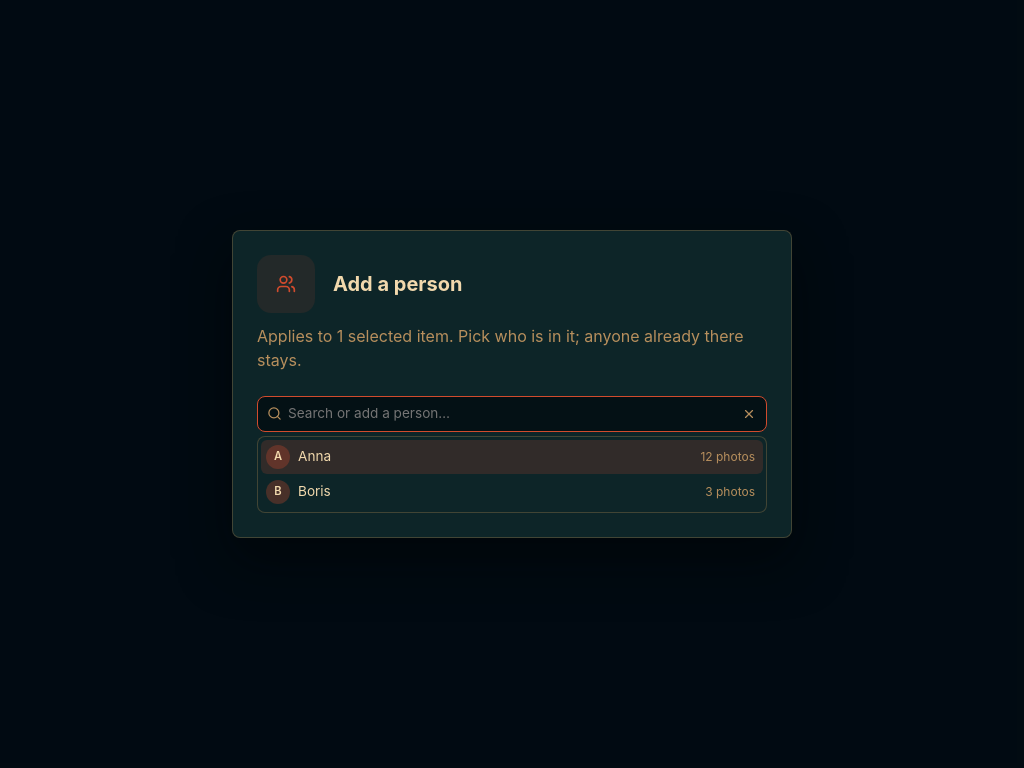
Scenario: GalleryPeopleModal › shows the failure and stays open
Click the option "B Boris 3 photos". click: x=314, y=491
box: x1=261 y1=474 x2=763 y2=508
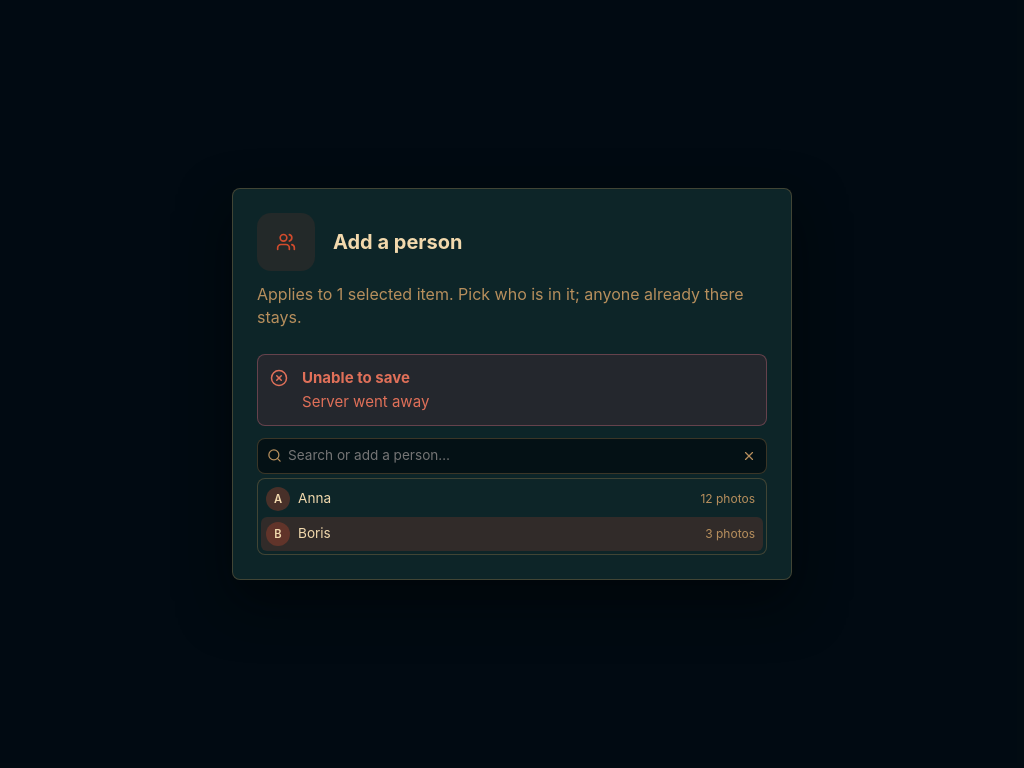
expect the dialog is shown: met, box x1=232 y1=188 x2=792 y2=580
expect the text "Server went away" is shown: met, box x1=302 y1=392 x2=429 y2=411
